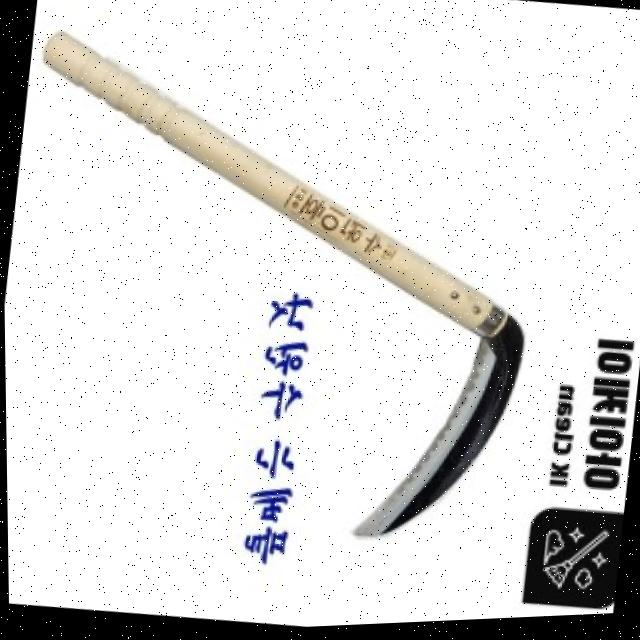sickle: (1, 43, 558, 603)
